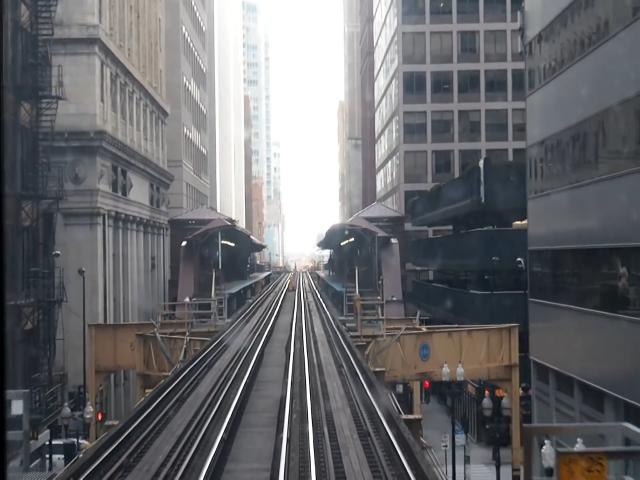signal light: (424, 380, 432, 406)
